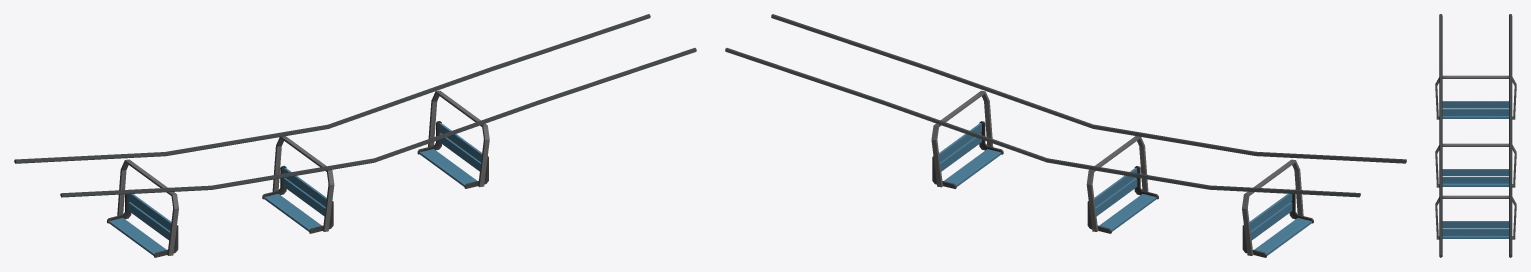
3 renders of one model, left to right at view 1: azimuth 30°, elevation 25°; view 2: azimuth 150°, elevation 25°; view 3: azimuth 270°, elevation 25°, orthographic. The views are drawn at different scales.
Visible parts, largest first — view 1: lp.obj.1; view 2: lp.obj.1; view 3: lp.obj.1.
Boxes of the visible parts, left/top/right/bottom form: lp.obj.1: left=14, top=14, right=696, bottom=257; lp.obj.1: left=725, top=14, right=1406, bottom=257; lp.obj.1: left=1435, top=14, right=1516, bottom=257.
Bounding box in the file's own units: 1578 × 238 × 232.
